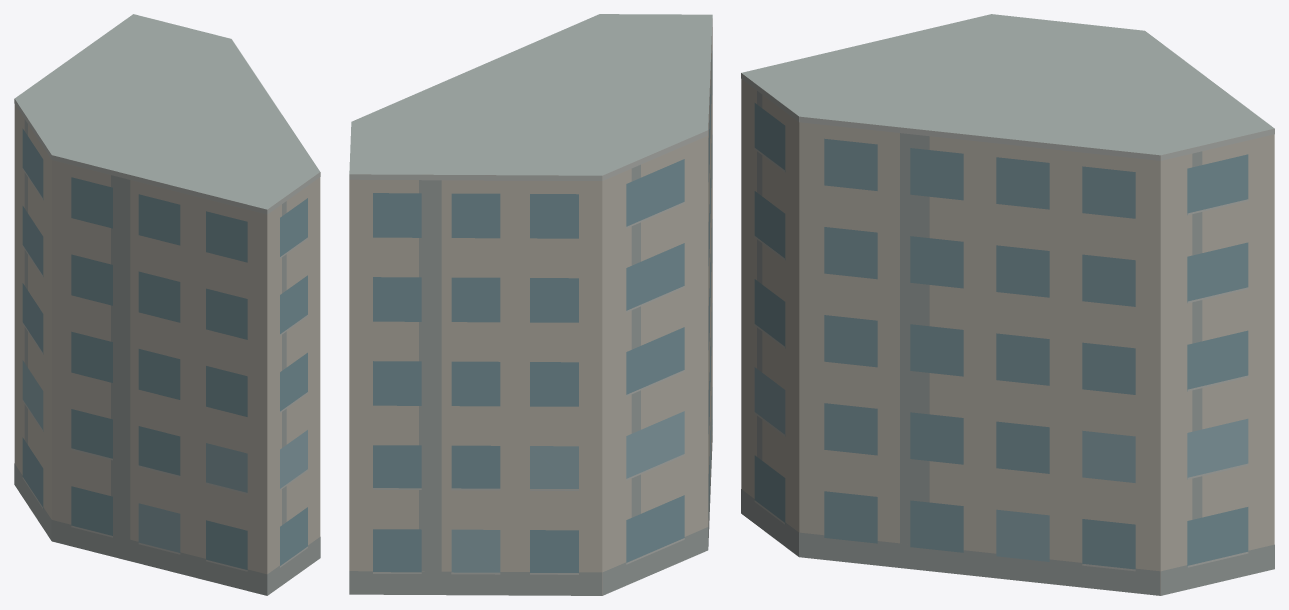
File: survey-upis-32745895.glb
3 views of the same model, side by side, from view 1: azimuth 30°, elevation 25°; view 2: azimuth 150°, elevation 25°; view 3: azimuth 270°, elevation 25° (orthographic). The views are drawn at different scales.
Parts seen in each view (by area): view 1: survey-upis-32745895.tmp; view 2: survey-upis-32745895.tmp; view 3: survey-upis-32745895.tmp.
Boxes of the visible parts, x1,y1,x2,y2 form: survey-upis-32745895.tmp: [14, 14, 320, 595]; survey-upis-32745895.tmp: [349, 14, 712, 595]; survey-upis-32745895.tmp: [741, 14, 1274, 595].
Size of the model in its own units: 13.01 by 18.9 by 20.76.
